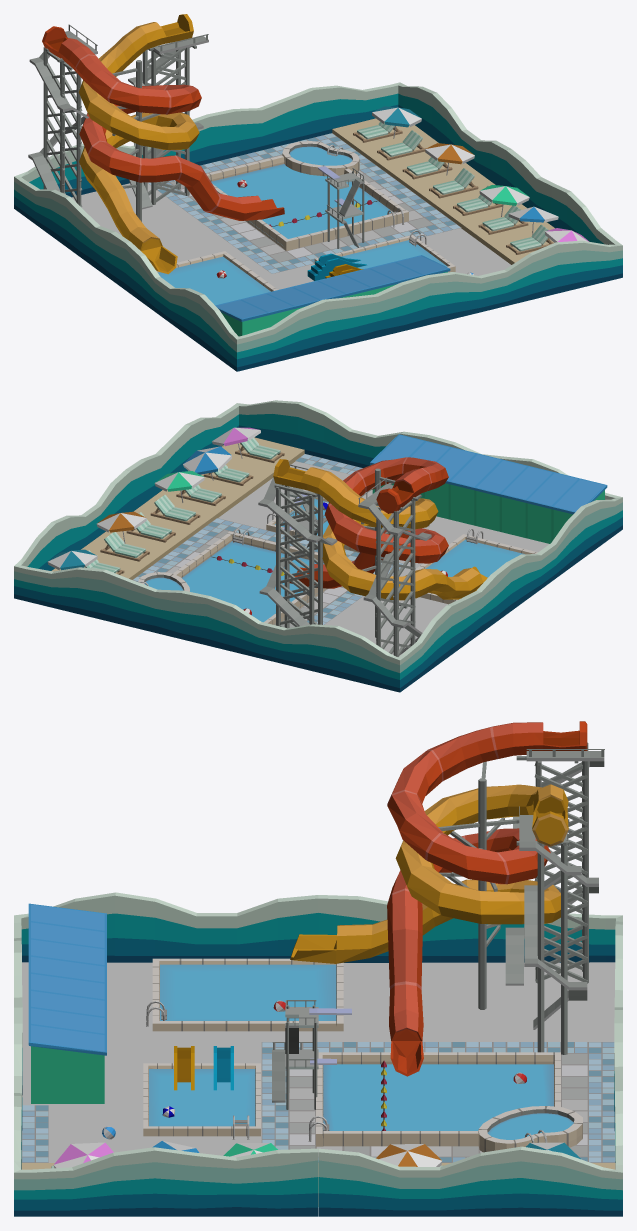
3 views of the same model, one above another, from view 1: azimuth 30°, elevation 25°; view 2: azimuth 150°, elevation 25°; view 3: azimuth 270°, elevation 25° (orthographic). The views are drawn at different scales.
Parts seen in each view (by area): view 1: o-5; view 2: o-5; view 3: o-5.
Part boxes in pixels (box(x1,y1,x2,y2)): o-5: box(14, 14, 622, 371); o-5: box(14, 400, 622, 692); o-5: box(14, 721, 622, 1216).
Size of the model in its own units: 0.9806 by 0.4762 by 0.9806.
